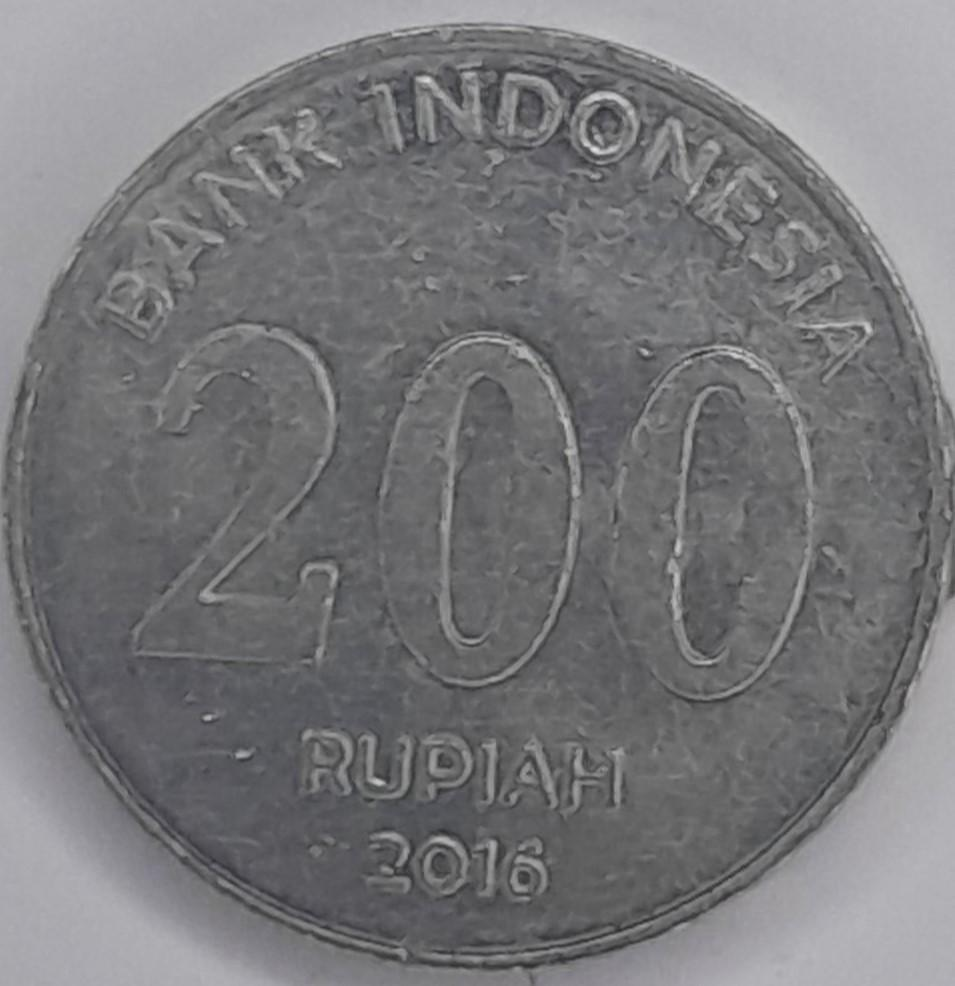coin_200_e2016: (0, 17, 955, 986)
